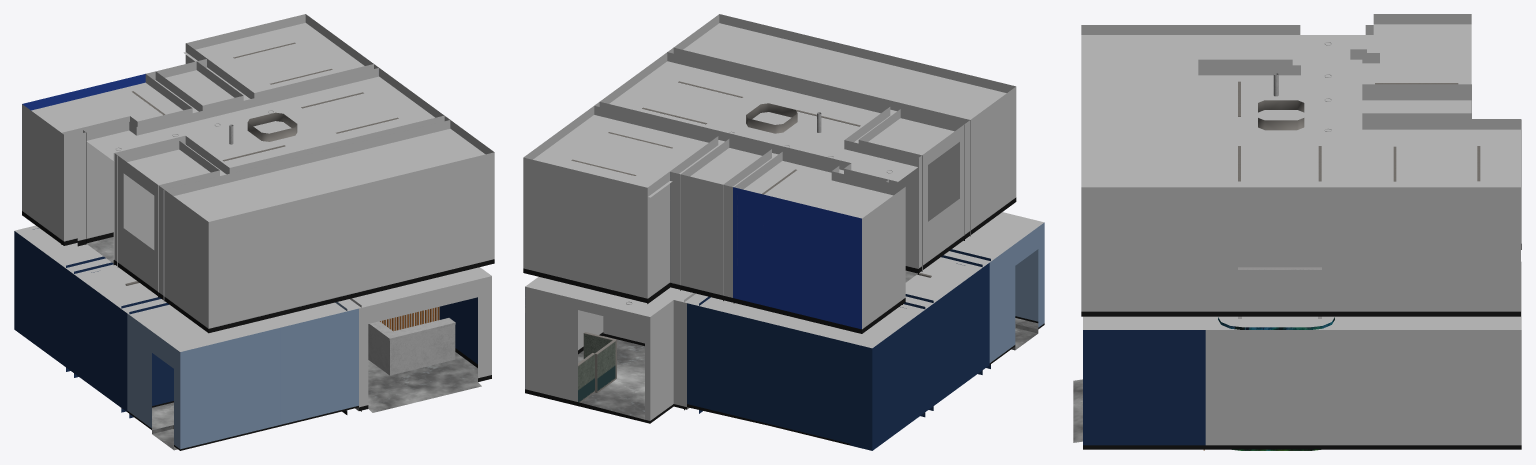
Rendered from CulturalCenterOfKoreansOfTheCIS_Interior.fbx.
3 views of the same model, side by side, from view 1: azimuth 30°, elevation 25°; view 2: azimuth 150°, elevation 25°; view 3: azimuth 270°, elevation 25° (orthographic). The views are drawn at different scales.
Parts seen in each view (by area): view 1: 2F_Inner_wall, 1F_Innerwall, 2Fwall, Front_Desk, AirConditioner, Rail_Light_Set, Woodstick; view 2: 2F_Inner_wall, 1F_Innerwall, 2Fwall, AirConditioner, Partition_1, Rail_Light_Set, Partition_2, Partition_3; view 3: 2F_Inner_wall, 1F_Innerwall, 2Fwall, AirConditioner, Rail_Light_Set.
Part boxes in pixels (box(x1,y1,x2,y2)): 2F_Inner_wall: box(22, 14, 494, 333); 1F_Innerwall: box(14, 225, 491, 450); 2Fwall: box(61, 43, 450, 301); Front_Desk: box(368, 318, 455, 375); AirConditioner: box(247, 112, 297, 141); Rail_Light_Set: box(125, 42, 398, 285); Woodstick: box(380, 307, 439, 331); 2F_Inner_wall: box(523, 14, 1016, 333); 1F_Innerwall: box(525, 212, 1044, 450); 2Fwall: box(594, 47, 970, 304); AirConditioner: box(746, 103, 797, 133); Partition_1: box(595, 340, 615, 392); Rail_Light_Set: box(571, 81, 931, 277); Partition_2: box(578, 353, 594, 402); Partition_3: box(583, 332, 616, 378); 2F_Inner_wall: box(1081, 14, 1520, 316); 1F_Innerwall: box(1073, 261, 1521, 450); 2Fwall: box(1198, 49, 1521, 249); AirConditioner: box(1258, 100, 1304, 130); Rail_Light_Set: box(1238, 81, 1480, 181).
Bounding box in the file's own units: 868 × 626 × 922.
